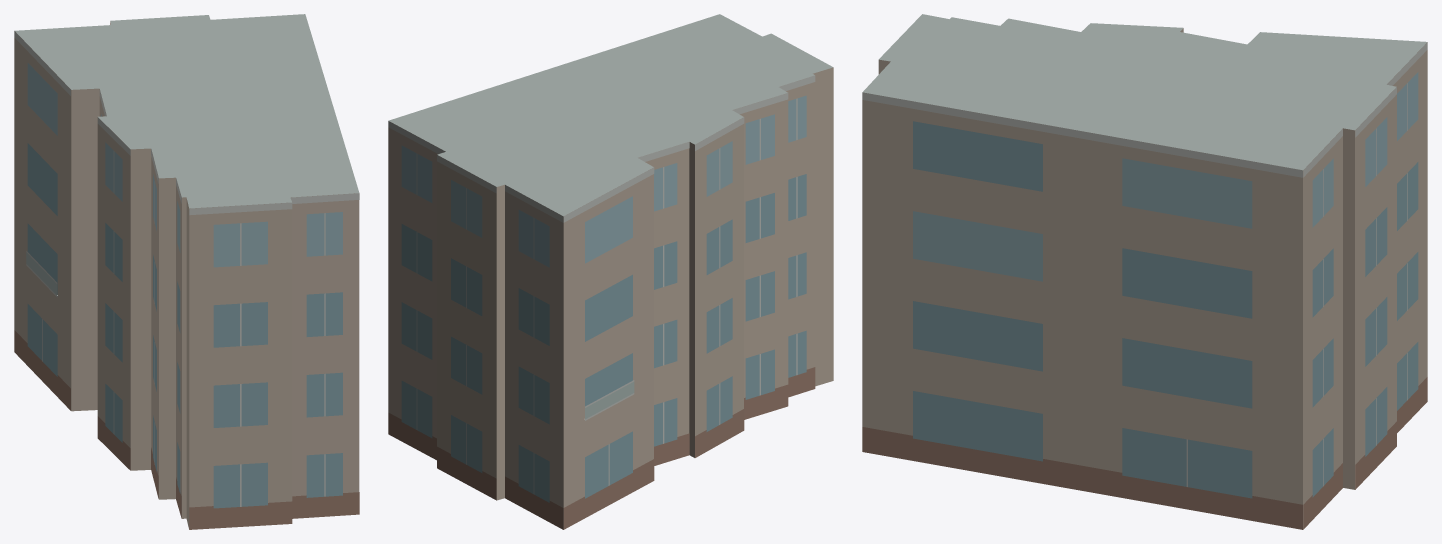
The model's file is survey-upis-32678036.glb.
3 renders of one model, left to right at view 1: azimuth 30°, elevation 25°; view 2: azimuth 150°, elevation 25°; view 3: azimuth 270°, elevation 25°, orthographic. The views are drawn at different scales.
Visible parts, largest first — view 1: survey-upis-32678036.tmp; view 2: survey-upis-32678036.tmp; view 3: survey-upis-32678036.tmp.
Boxes of the visible parts, x1,y1,x2,y2 form: survey-upis-32678036.tmp: [14, 14, 359, 529]; survey-upis-32678036.tmp: [388, 14, 833, 529]; survey-upis-32678036.tmp: [862, 14, 1427, 529].
Size of the model in its own units: 10.87 by 11.65 by 16.61.
